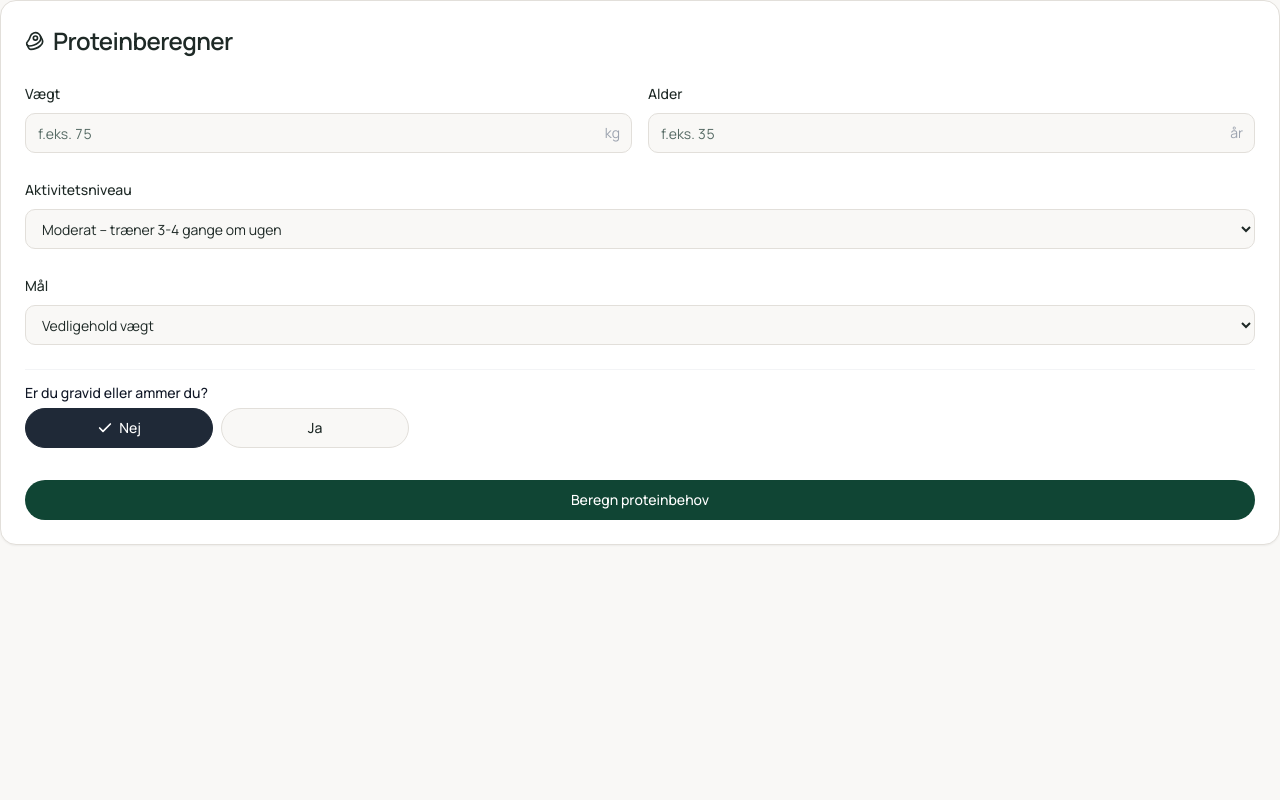
Test case: ProteinCalculator › only asks about trimester and breastfeeding after the visitor says yes
The image size is (1280, 800).
Expected: the field labelled "Er du gravid?" is not shown
What coordinates should you click on to do the following:
click the button "Ja"
I would click on:
 (315, 428)
Its box is x1=221 y1=408 x2=409 y2=448.
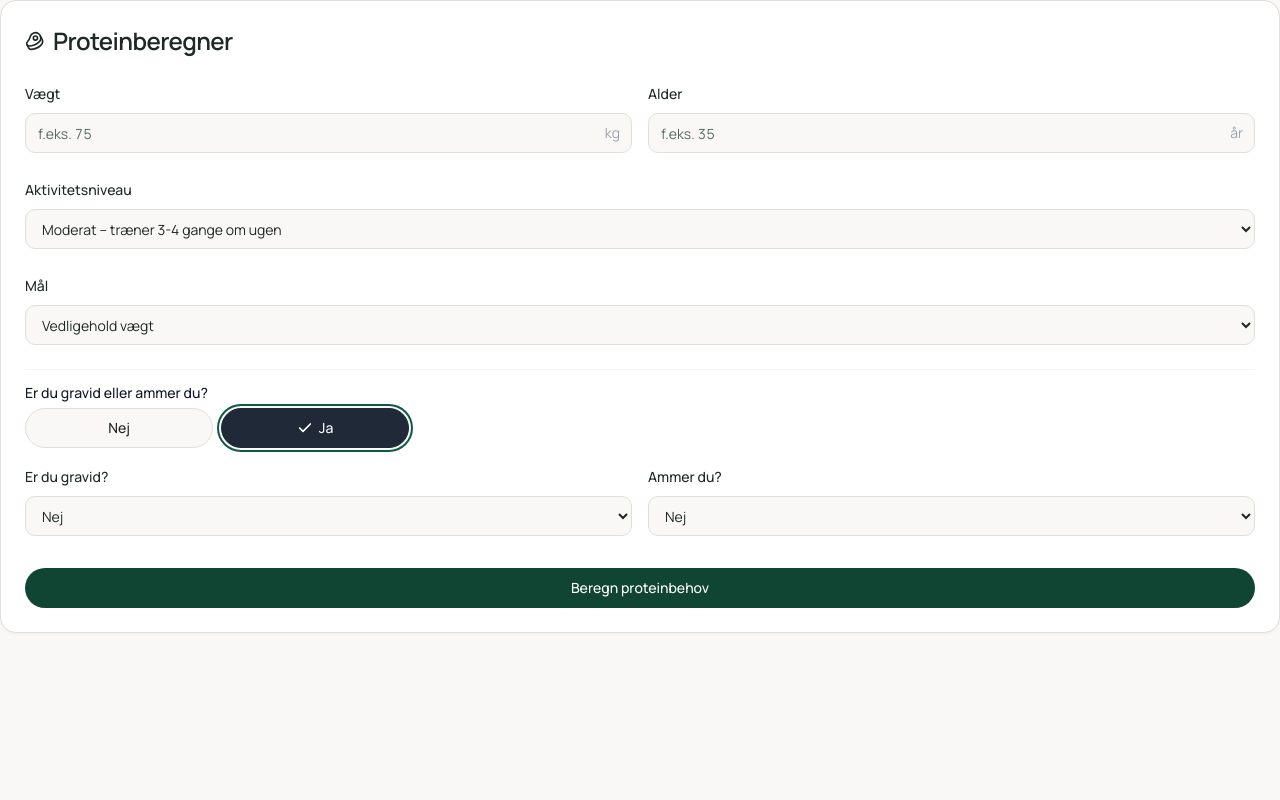
Now the dropdown labelled "Er du gravid?" shows "Nej", box x1=25 y1=496 x2=632 y2=536
Now the dropdown labelled "Ammer du?" shows "Nej", box x1=648 y1=496 x2=1255 y2=536
